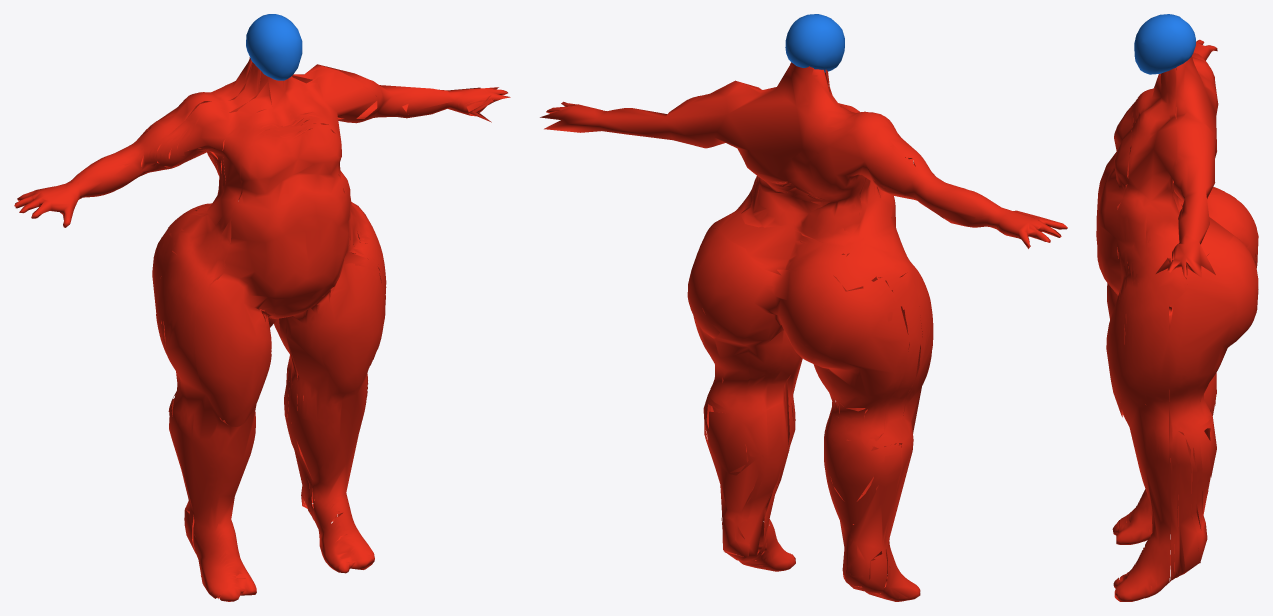
The model's file is tank.glb.
The picture shows the model from 3 angles, left to right: view 1: azimuth 30°, elevation 25°; view 2: azimuth 150°, elevation 25°; view 3: azimuth 270°, elevation 25°; orthographic projection. The views are drawn at different scales.
Visible parts, largest first — view 1: body_Material_0 (×3), head.002_Material.002_0; view 2: body_Material_0 (×3), head.002_Material.002_0; view 3: body_Material_0 (×3), head.002_Material.002_0.
Part boxes in pixels (x1=…): body_Material_0 (×3): x1=14, y1=57, x2=510, y2=601; head.002_Material.002_0: x1=246, y1=14, x2=302, y2=80; body_Material_0 (×3): x1=540, y1=62, x2=1067, y2=601; head.002_Material.002_0: x1=785, y1=14, x2=844, y2=72; body_Material_0 (×3): x1=1096, y1=39, x2=1258, y2=601; head.002_Material.002_0: x1=1134, y1=14, x2=1195, y2=74.
Size of the model in its own units: 0.9309 by 0.9993 by 0.2671.
